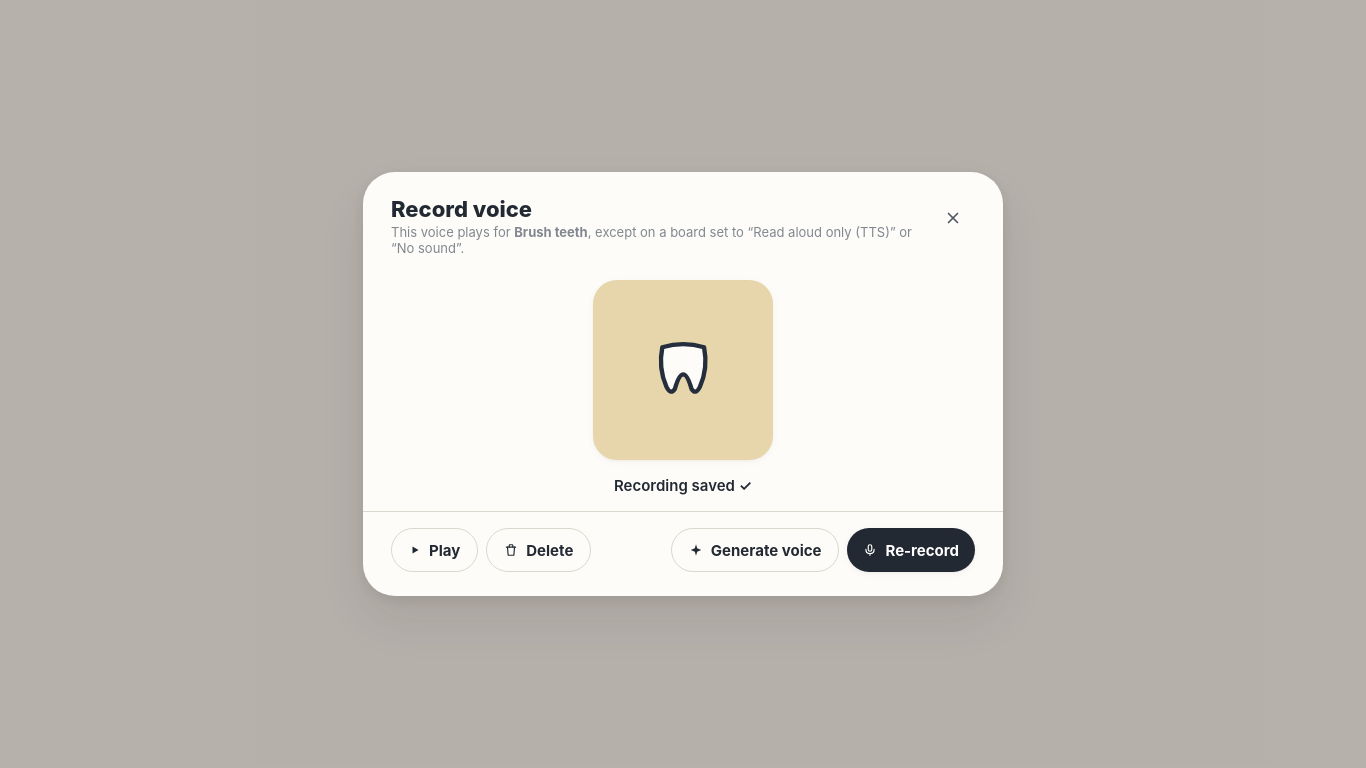
VoiceRecorderDialog › plays the saved recording and reports playback failure
Click the button "Play". click: {"x": 435, "y": 550}
box: [391,528,478,572]
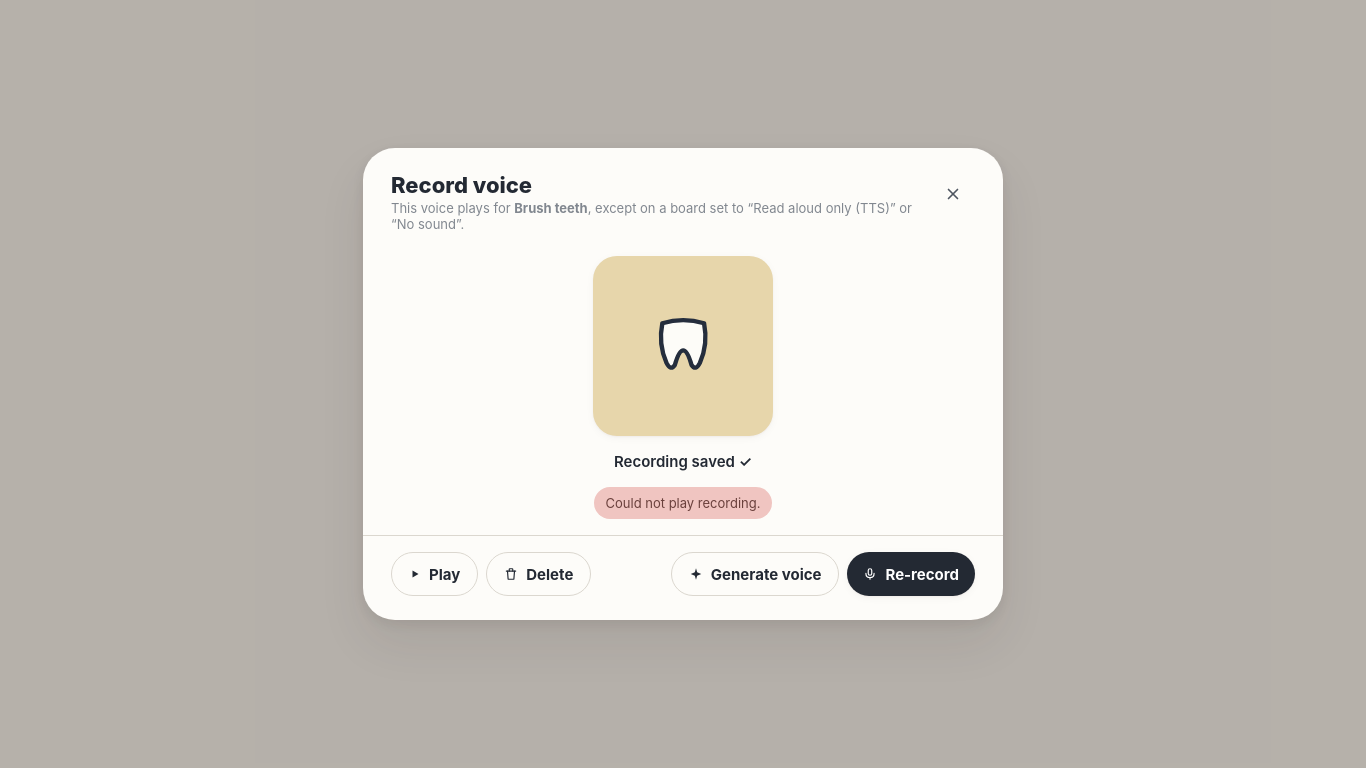
Result: the text "Could not play recording." is shown at [594,487,772,519]
Click the button "Play". click: {"x": 435, "y": 574}
box: [391,552,478,596]
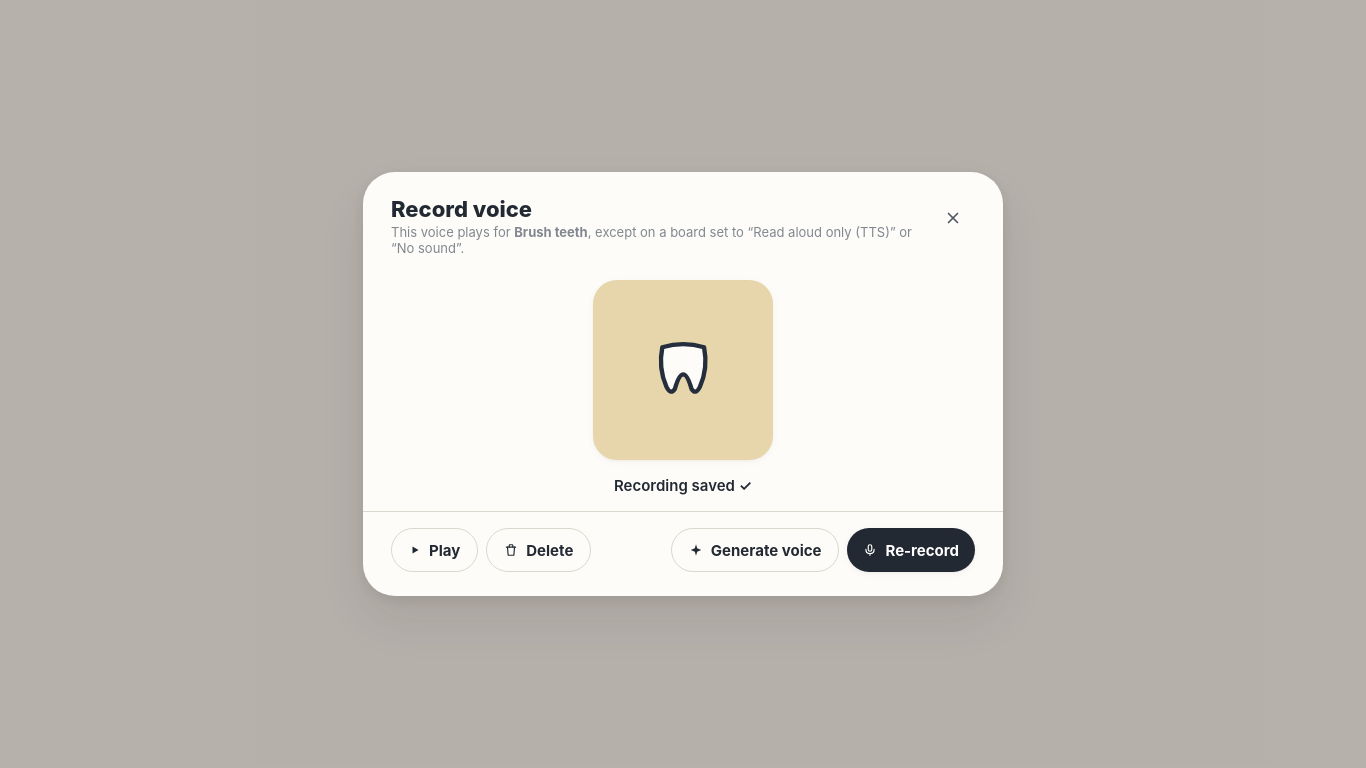
Result: the text "Could not play recording." is gone
